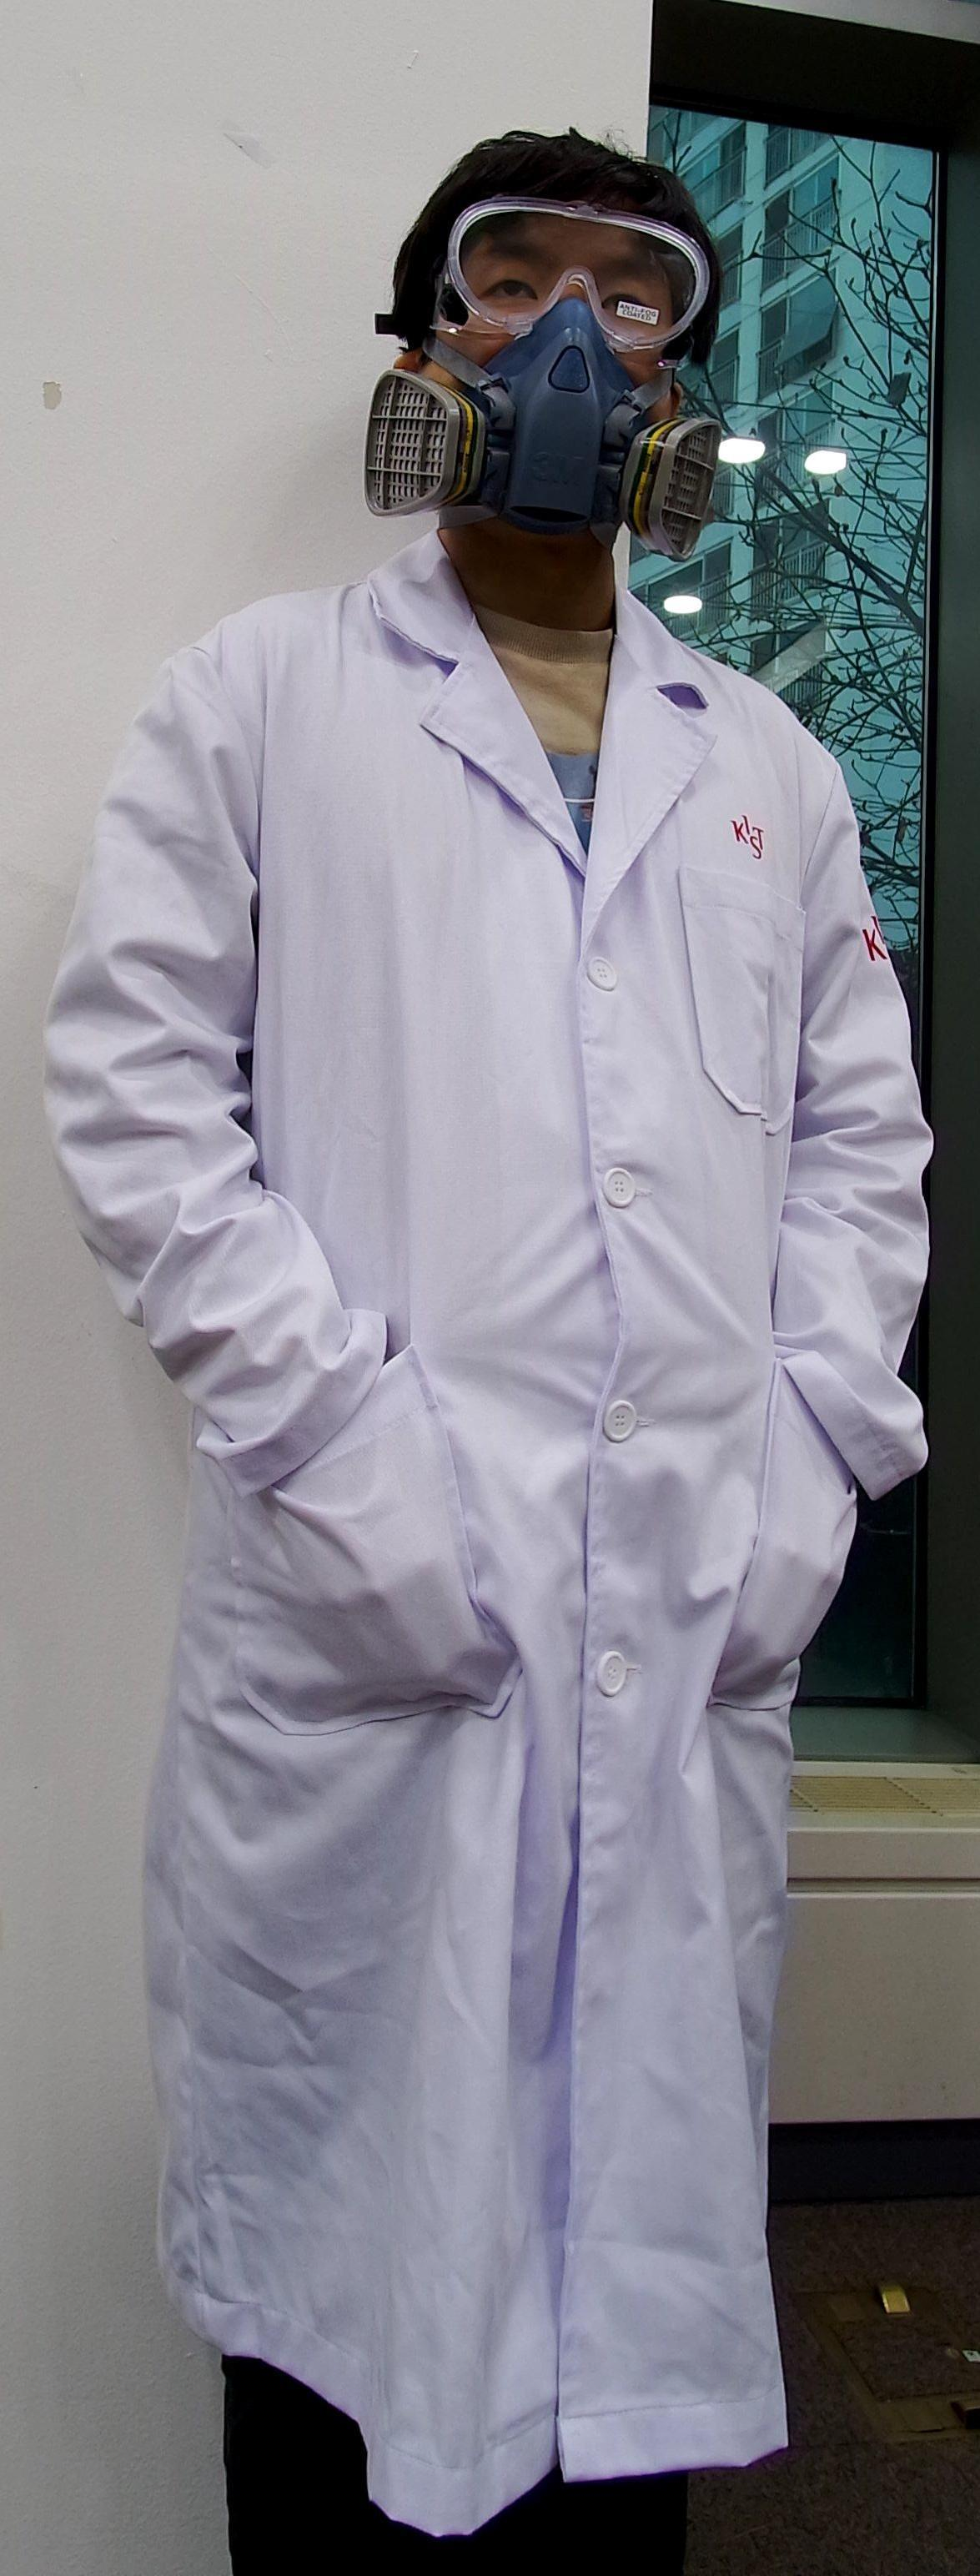lab_coat: (59, 618, 941, 2507)
